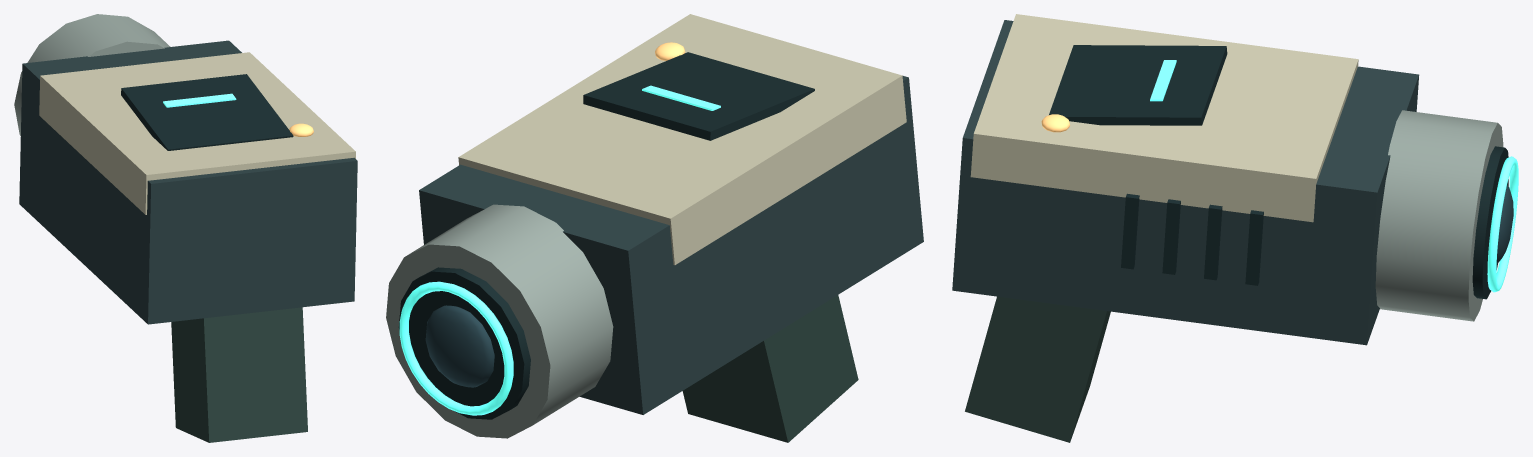
The model's file is scanner.glb.
The picture shows the model from 3 angles, left to right: view 1: azimuth 30°, elevation 25°; view 2: azimuth 150°, elevation 25°; view 3: azimuth 270°, elevation 25°; orthographic projection. The views are drawn at different scales.
Parts seen in each view (by area): view 1: Vesper / Lumen field scanner; view 2: Vesper / Lumen field scanner, sensor-aperture; view 3: Vesper / Lumen field scanner, sensor-aperture.
Part boxes in pixels (left/top/right/bottom): Vesper / Lumen field scanner: left=14, top=14, right=357, bottom=442; Vesper / Lumen field scanner: left=386, top=14, right=923, bottom=442; sensor-aperture: left=399, top=281, right=513, bottom=415; Vesper / Lumen field scanner: left=952, top=14, right=1513, bottom=442; sensor-aperture: left=1487, top=156, right=1518, bottom=292.
Bounding box in the file's own units: 0.1802 × 0.21 × 0.3094.
